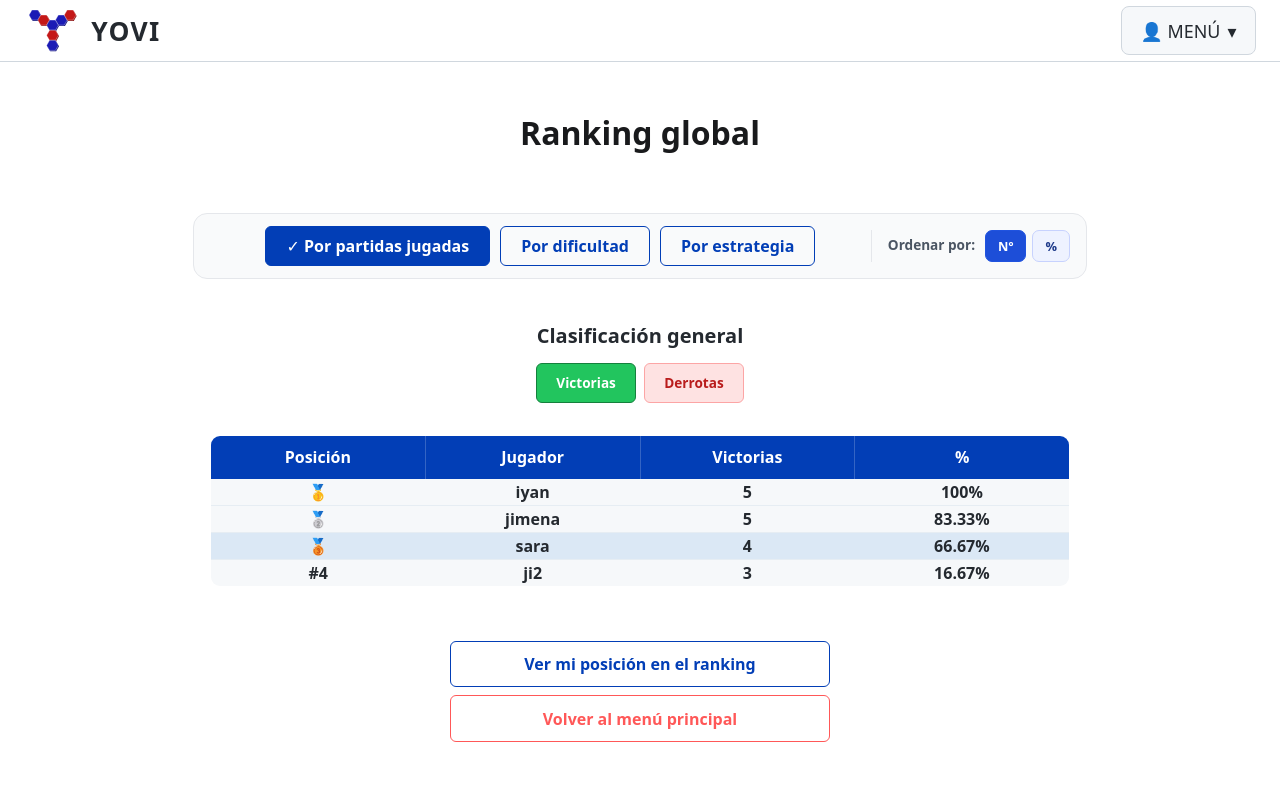
Ranking › muestra sección de dificultad al activarla
Click the button "Por dificultad" at [575, 246], box left=500, top=226, right=650, bottom=266
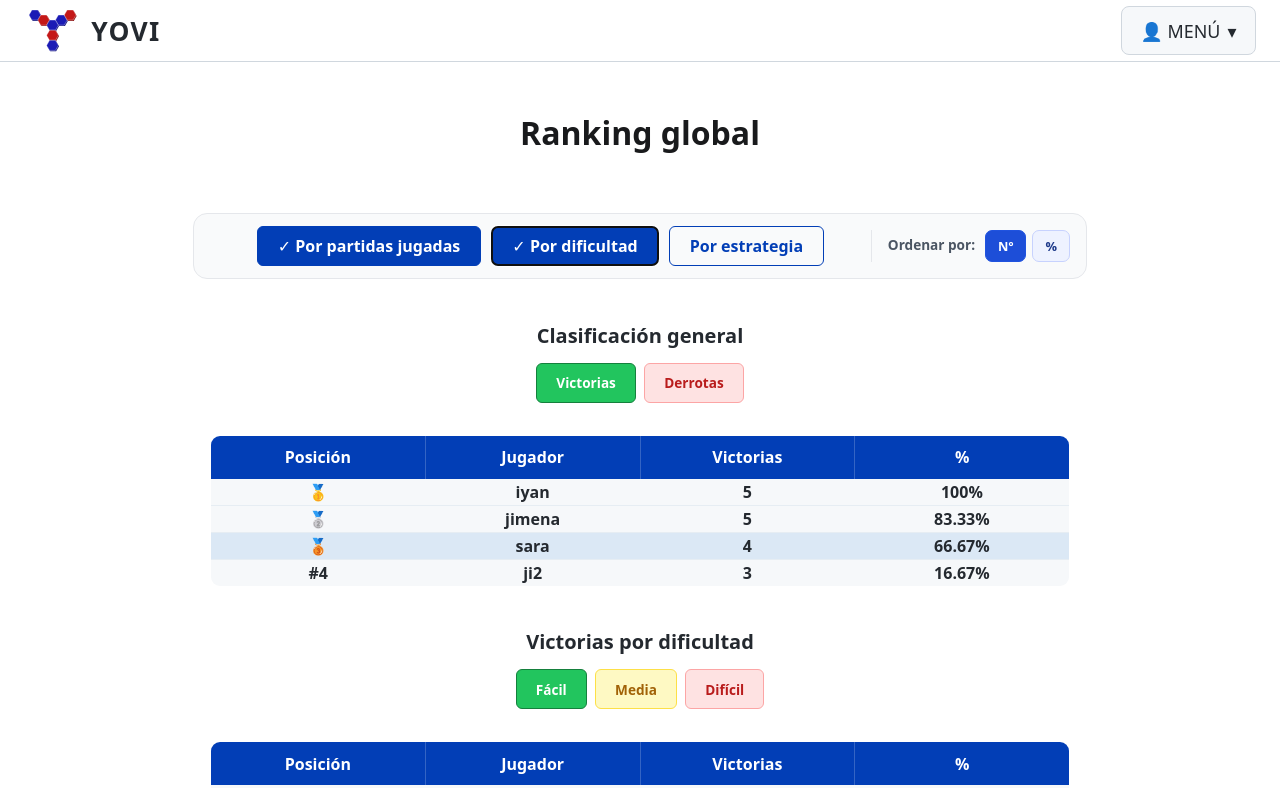
Now the heading "Victorias por dificultad" is shown, box left=526, top=627, right=754, bottom=657
